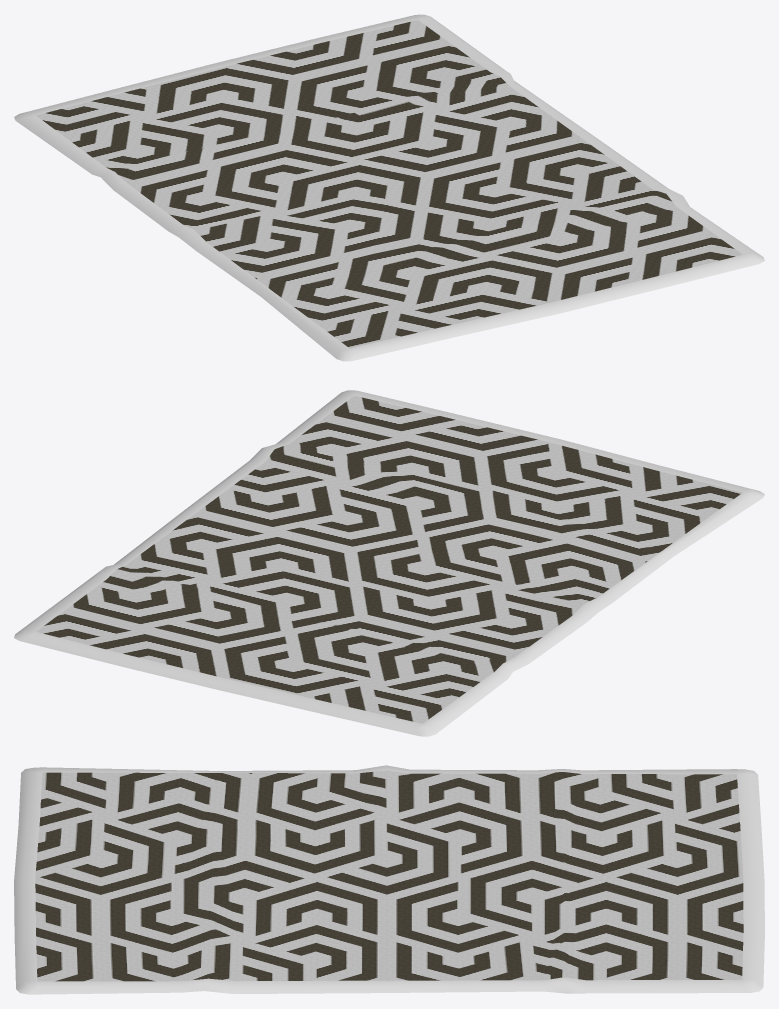
File: carpet_006.fbx
3 views of the same model, one above another, from view 1: azimuth 30°, elevation 25°; view 2: azimuth 150°, elevation 25°; view 3: azimuth 270°, elevation 25° (orthographic). The views are drawn at different scales.
Visible parts, largest first — view 1: carpet_006; view 2: carpet_006; view 3: carpet_006.
Part boxes in pixels (left/top/right/bottom): carpet_006: left=14, top=14, right=764, bottom=361; carpet_006: left=14, top=390, right=764, bottom=736; carpet_006: left=14, top=765, right=764, bottom=994.
Bounding box in the file's own units: 264 × 369 × 5.08.
